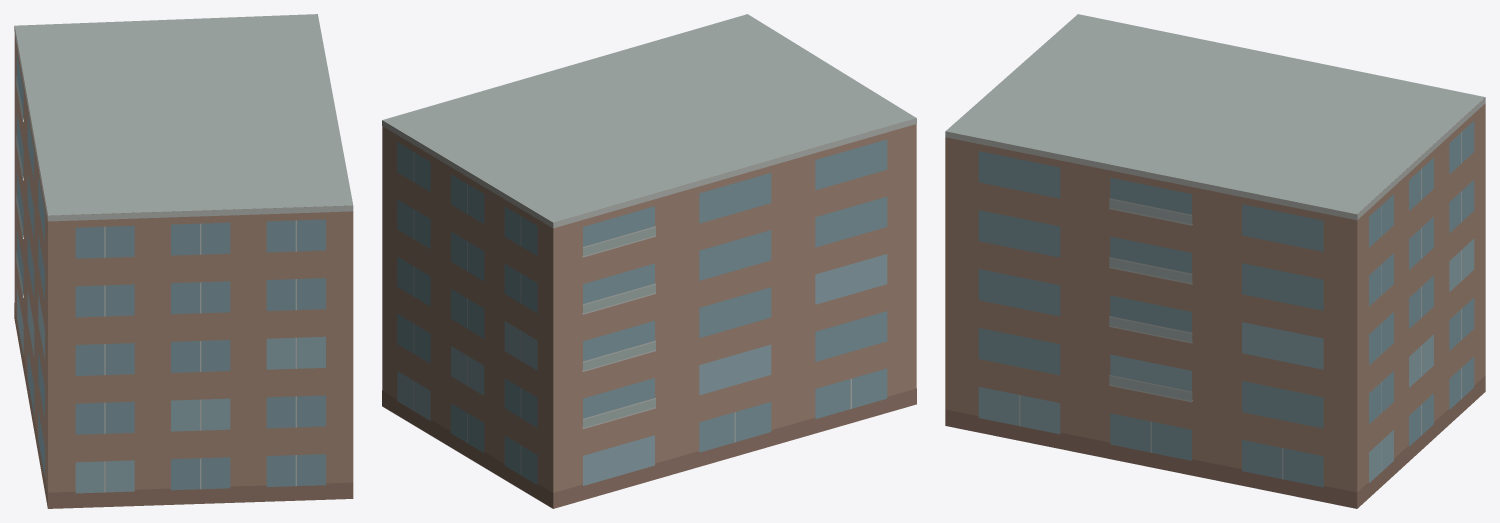
The model's file is survey-upis-32746314.glb.
3 renders of one model, left to right at view 1: azimuth 30°, elevation 25°; view 2: azimuth 150°, elevation 25°; view 3: azimuth 270°, elevation 25°, orthographic. The views are drawn at different scales.
Parts seen in each view (by area): view 1: survey-upis-32746314.tmp; view 2: survey-upis-32746314.tmp; view 3: survey-upis-32746314.tmp.
Boxes of the visible parts, bbox=[...] form: survey-upis-32746314.tmp: bbox=[14, 14, 353, 508]; survey-upis-32746314.tmp: bbox=[382, 14, 916, 508]; survey-upis-32746314.tmp: bbox=[945, 14, 1485, 508].
Bounding box in the file's own units: 17.66 × 12.1 × 20.12.
